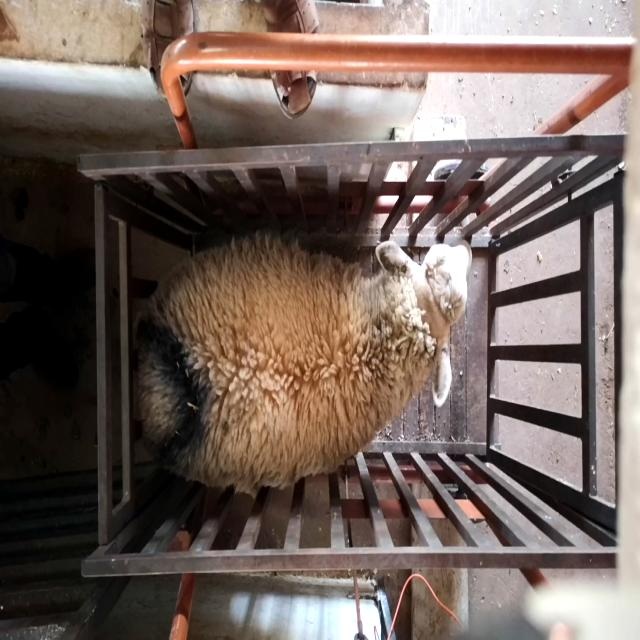sheep: (134, 233, 473, 495)
